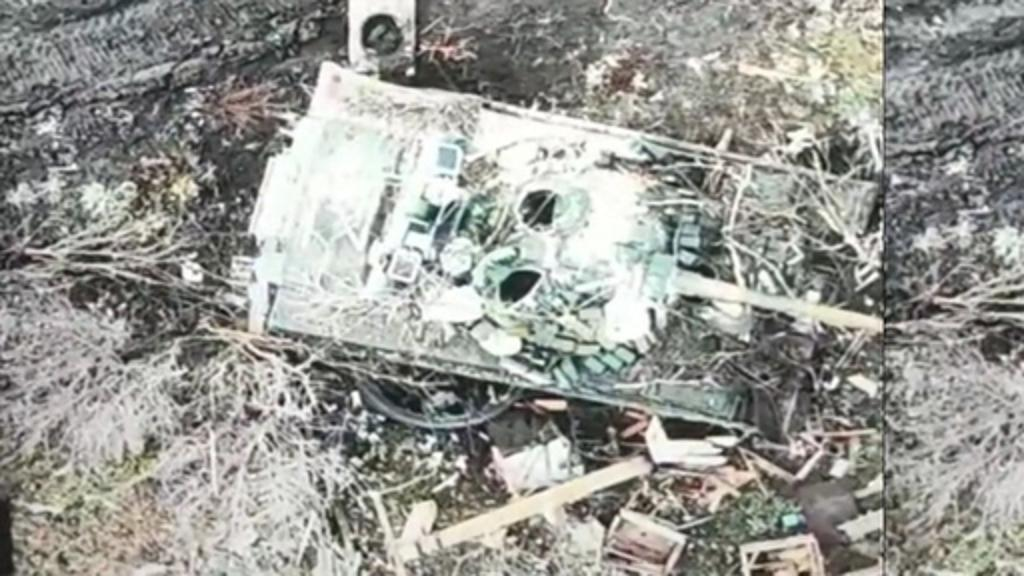TANK: (226, 60, 882, 446)
